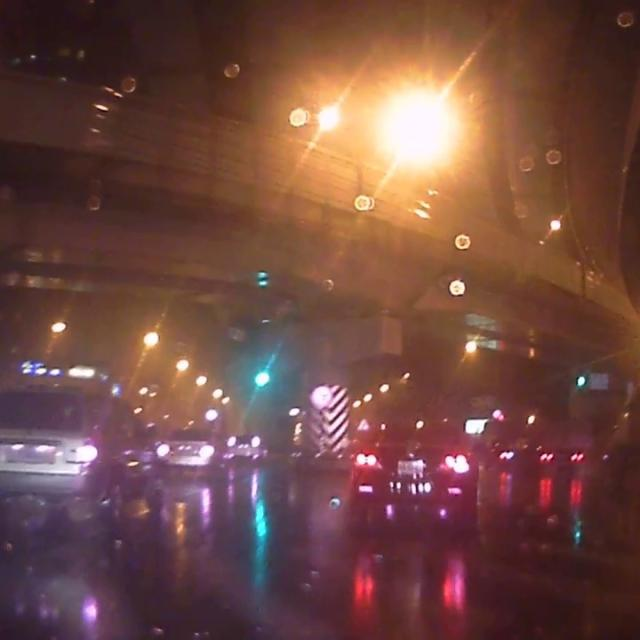Car: (0, 375, 165, 523), (348, 424, 475, 514), (149, 425, 218, 468), (225, 434, 267, 458)
